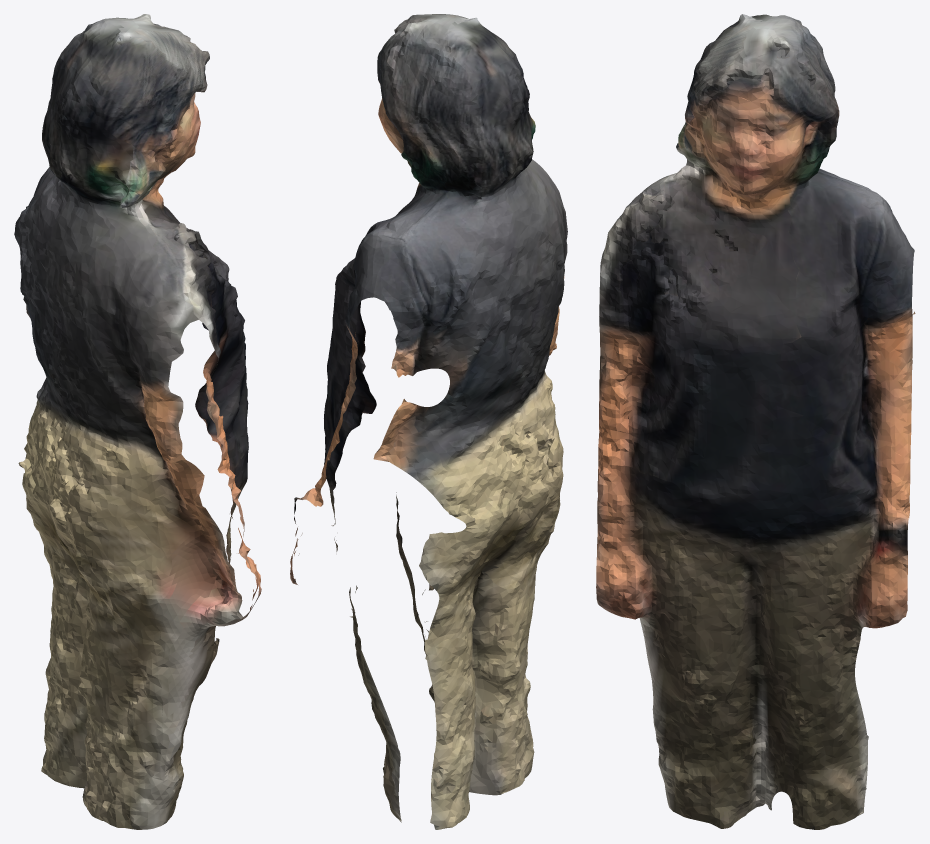
3 views of the same model, side by side, from view 1: azimuth 30°, elevation 25°; view 2: azimuth 150°, elevation 25°; view 3: azimuth 270°, elevation 25° (orthographic). The views are drawn at different scales.
Bounding box in the file's own units: 0.3129 × 1.22 × 0.4466.
1 material, 1 textured.
